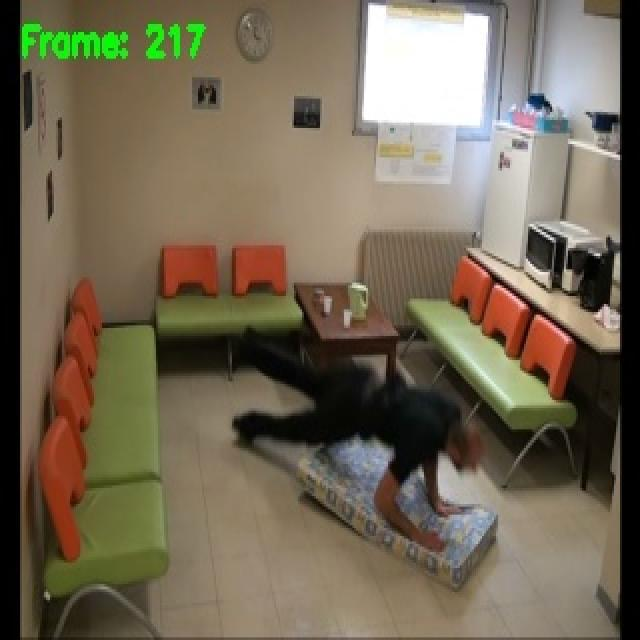fall: (229, 322, 488, 558)
